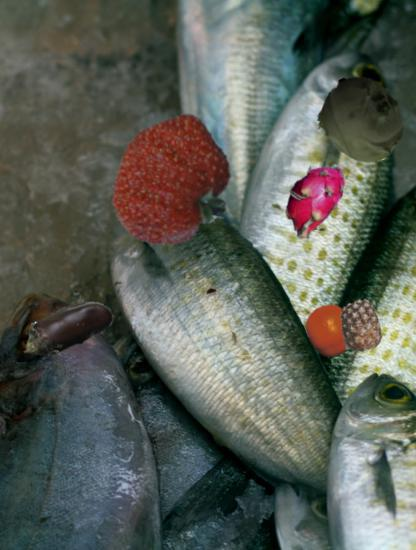Clementine: (304, 305, 357, 358)
Eggplant: (17, 279, 118, 380)
Kohlrabi: (314, 75, 406, 167)
Pineapple: (334, 299, 388, 353)
Pitahaya: (274, 158, 358, 242)
Strawberry: (104, 110, 243, 249)
